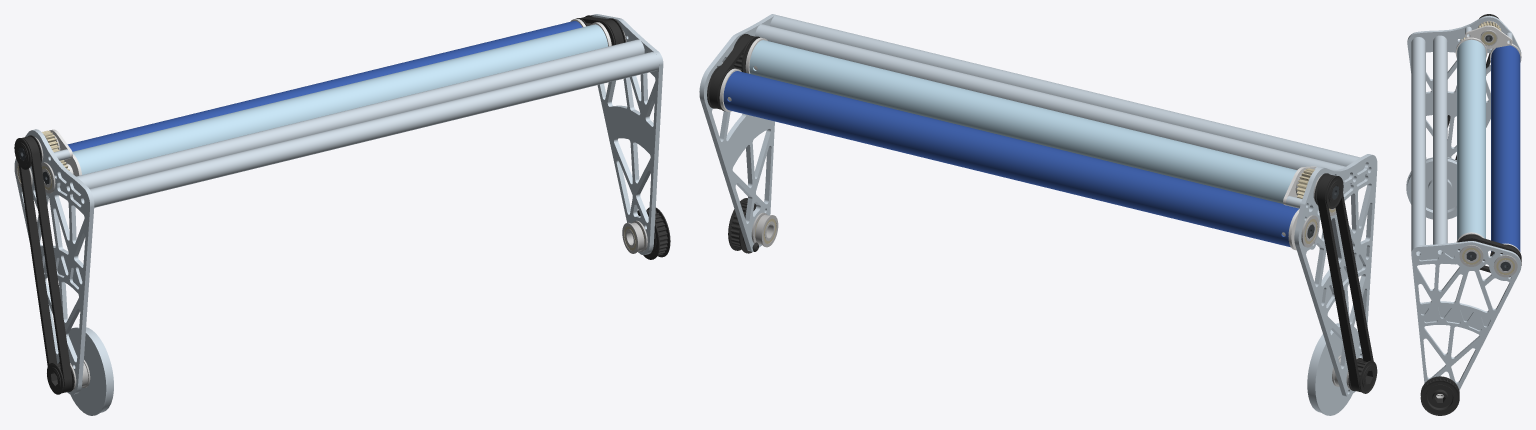
3 views of the same model, side by side, from view 1: azimuth 30°, elevation 25°; view 2: azimuth 150°, elevation 25°; view 3: azimuth 270°, elevation 25° (orthographic). The views are drawn at different scales.
Visible parts, largest first — view 1: Part 51 (×2), Part 47, 1678-26a-0703, 1678-26a-0704, 109T 5M 9mm Wide Belt, Part 46, 1678-26a-0710, 30t Aluminum Pulley (HTD 5mm, 9mm Wide, 1/2" Hex Bore); view 2: Part 46, Part 47, Part 51 (×2), 1678-26a-0703, 1678-26a-0704, 109T 5M 9mm Wide Belt, 1678-26a-0710, 43T 5M 9mm Wide Belt, 30t Aluminum Pulley (HTD 5mm, 9mm Wide, 1/2" Hex Bore), 1/2" Rounded Hex (13.75mm) ID Bearing (1.125" OD, 0.313" WD,; view 3: 1678-26a-0704, Part 51 (×2), Part 46, Part 47, 1678-26a-0703, 30t Aluminum Pulley (HTD 5mm, 9mm Wide, 1/2" Hex Bore), 1678-26a-0710, 1/2" Rounded Hex (13.75mm) ID Bearing (1.125" OD, 0.313" WD, (×2), 1678-26a-0712, 43T 5M 9mm Wide Belt, 0.375" ID Bearing (0.875" OD, 0.281" WD, Shielded, Flanged), 1678-26a-0718.
Part boxes in pixels (left/top/right/bottom): Part 51 (×2): left=76, top=39, right=659, bottom=207; Part 47: left=72, top=24, right=608, bottom=174; 1678-26a-0703: left=14, top=129, right=94, bottom=394; 1678-26a-0704: left=591, top=14, right=663, bottom=255; 109T 5M 9mm Wide Belt: left=18, top=136, right=72, bottom=393; Part 46: left=67, top=21, right=582, bottom=151; 1678-26a-0710: left=68, top=327, right=113, bottom=415; 30t Aluminum Pulley (HTD 5mm, 9mm Wide, 1/2" Hex Bore): left=637, top=207, right=670, bottom=259; Part 46: left=723, top=71, right=1299, bottom=247; Part 47: left=749, top=40, right=1296, bottom=203; Part 51 (×2): left=755, top=15, right=1360, bottom=170; 1678-26a-0703: left=1294, top=154, right=1377, bottom=396; 1678-26a-0704: left=699, top=14, right=775, bottom=251; 109T 5M 9mm Wide Belt: left=1317, top=174, right=1373, bottom=392; 1678-26a-0710: left=1307, top=323, right=1359, bottom=415; 43T 5M 9mm Wide Belt: left=709, top=35, right=754, bottom=109; 30t Aluminum Pulley (HTD 5mm, 9mm Wide, 1/2" Hex Bore): left=728, top=198, right=756, bottom=253; 1/2" Rounded Hex (13.75mm) ID Bearing (1.125" OD, 0.313" WD,: left=755, top=214, right=778, bottom=247; 1678-26a-0704: left=1411, top=241, right=1521, bottom=390; Part 51 (×2): left=1411, top=35, right=1447, bottom=254; Part 46: left=1491, top=45, right=1520, bottom=251; Part 47: left=1457, top=39, right=1485, bottom=240; 1678-26a-0703: left=1407, top=15, right=1521, bottom=158; 30t Aluminum Pulley (HTD 5mm, 9mm Wide, 1/2" Hex Bore): left=1420, top=376, right=1459, bottom=415; 1678-26a-0710: left=1406, top=157, right=1456, bottom=219; 1/2" Rounded Hex (13.75mm) ID Bearing (1.125" OD, 0.313" WD, (×2): left=1459, top=245, right=1517, bottom=277; 1678-26a-0712: left=1465, top=25, right=1512, bottom=48; 43T 5M 9mm Wide Belt: left=1458, top=235, right=1521, bottom=272; 0.375" ID Bearing (0.875" OD, 0.281" WD, Shielded, Flanged): left=1480, top=30, right=1497, bottom=46; 1678-26a-0718: left=1455, top=37, right=1487, bottom=57.
Bounding box in the file's own units: 0.6858 × 0.2834 × 0.151.
